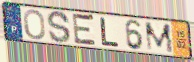6: (124, 18, 144, 52)
E: (72, 11, 98, 49)
L: (99, 16, 120, 49)
M: (144, 21, 176, 54)
O: (22, 8, 47, 41)
S: (46, 10, 72, 45)
